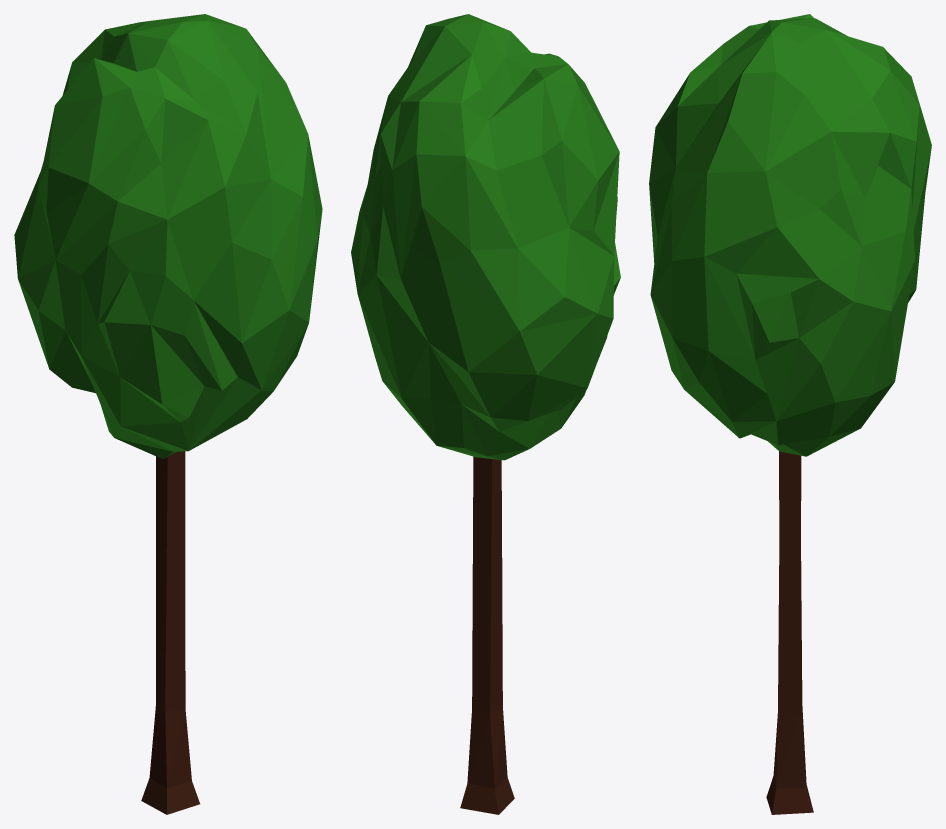
File: tree1.fbx
3 views of the same model, side by side, from view 1: azimuth 30°, elevation 25°; view 2: azimuth 150°, elevation 25°; view 3: azimuth 270°, elevation 25° (orthographic).
Visible parts, largest first — view 1: Sphere; view 2: Sphere; view 3: Sphere.
Part boxes in pixels (left/top/right/bottom): Sphere: left=14, top=14, right=322, bottom=814; Sphere: left=351, top=14, right=620, bottom=814; Sphere: left=649, top=14, right=931, bottom=814.
Bounding box in the file's own units: 209 × 633 × 206.
